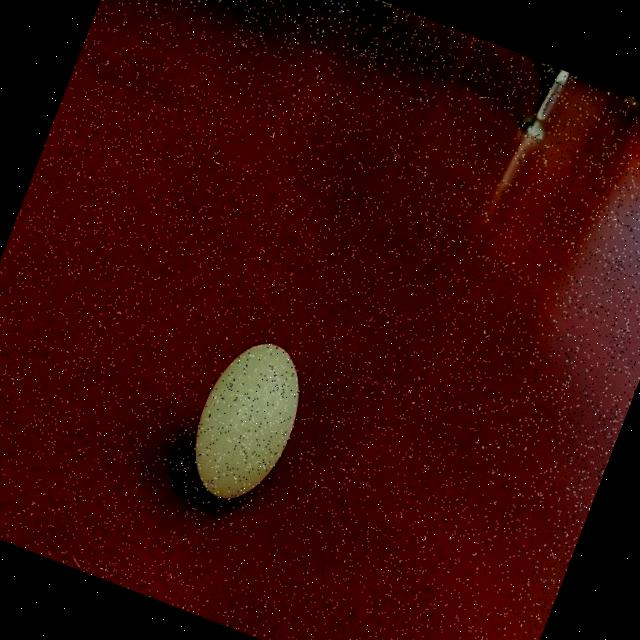ping-pong-ball: (174, 326, 320, 514)
